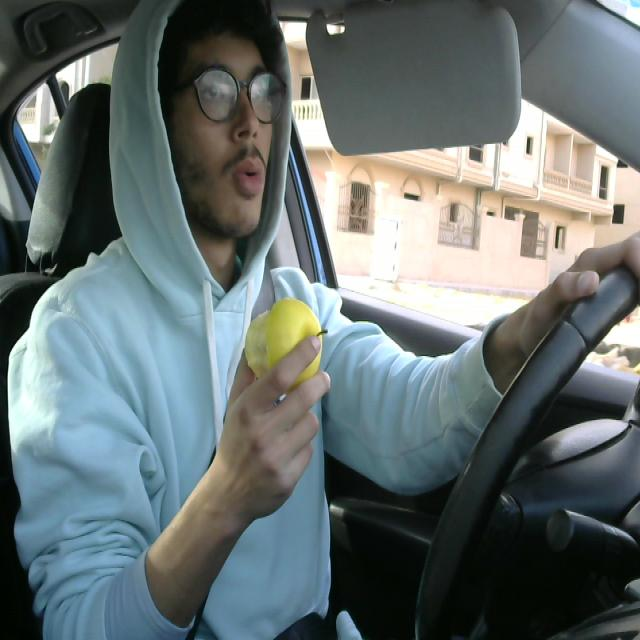eating: (241, 292, 330, 384)
